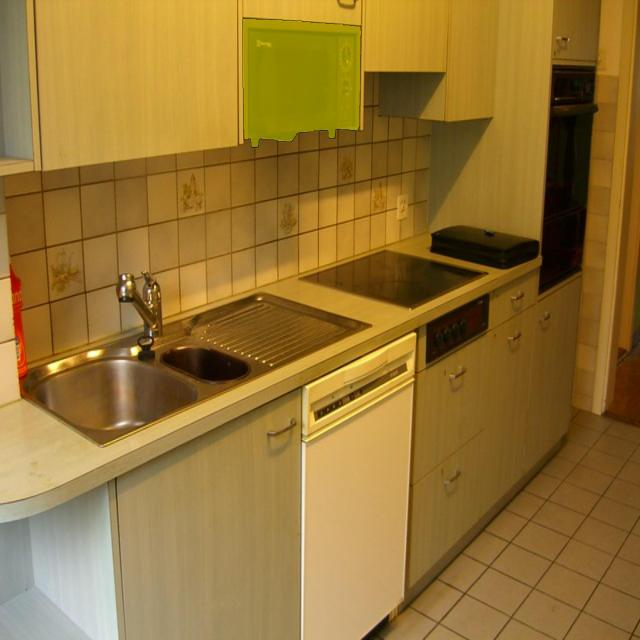dishwasher: (302, 329, 406, 640)
